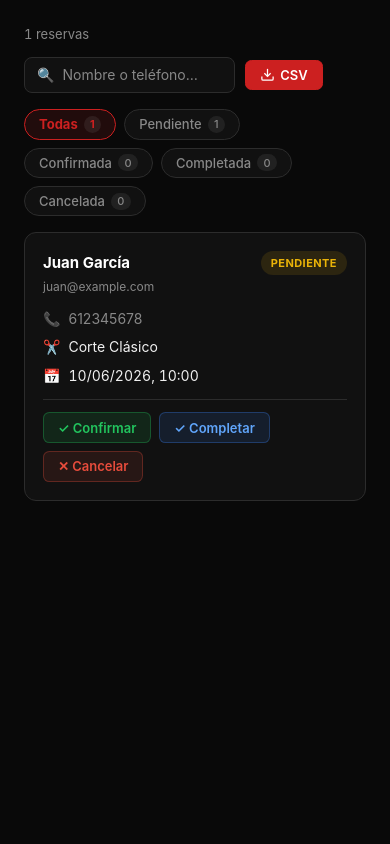
Test: AdminReservas › abre el modal de cancelación desde la card móvil
The width and height of the screenshot is (390, 844).
Expected: the text "Juan García" is shown, [43, 253, 130, 272]
Click the button "✕ Cancelar".
click(93, 466)  # box [43, 451, 144, 482]
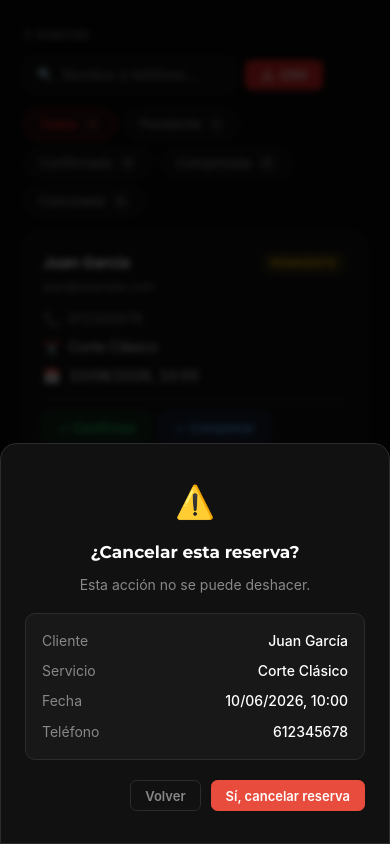
Expected: the dialog is shown
